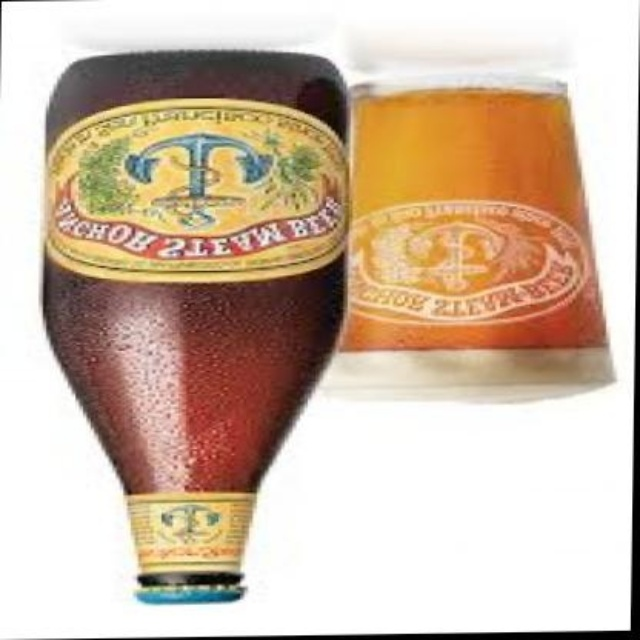trash: (43, 51, 346, 602), (326, 80, 611, 400)
